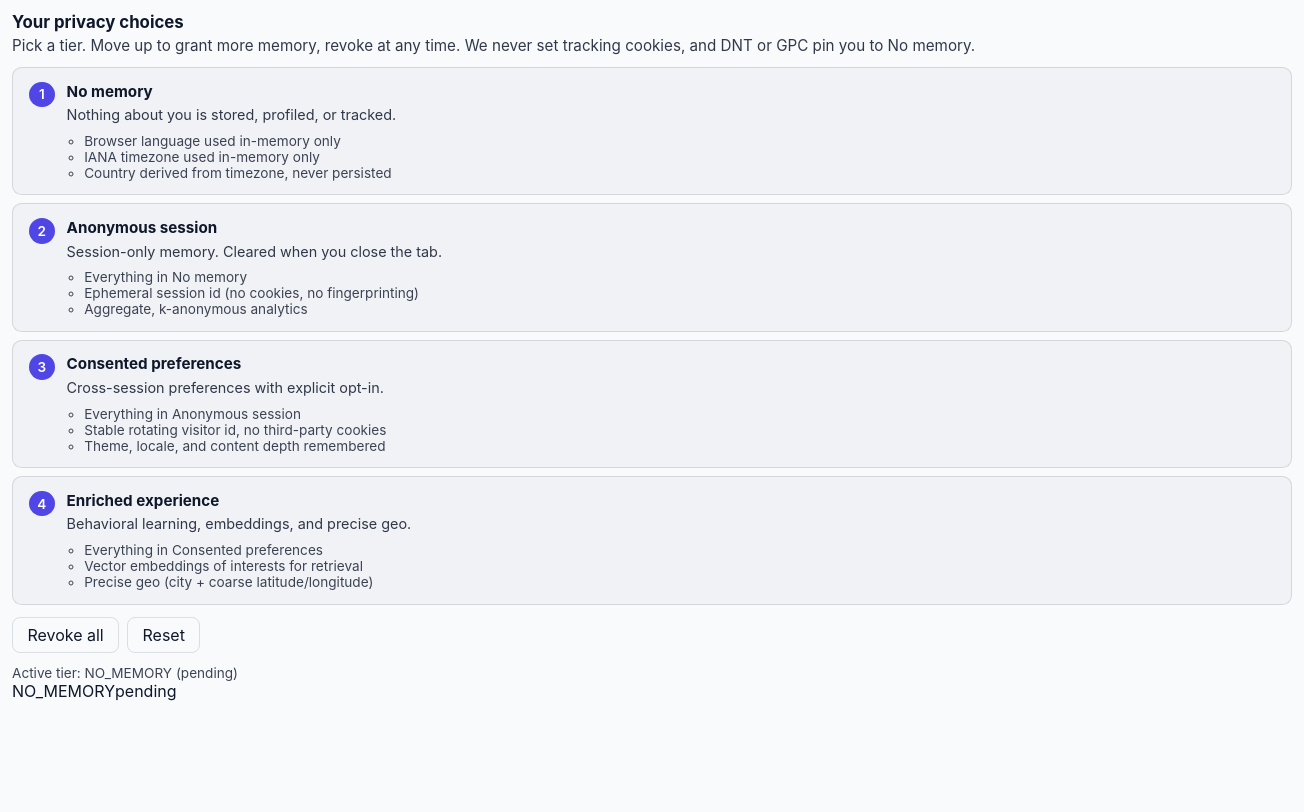
it: ConsentLadder › NO_MEMORY rung revokes consent
Step 1. Click the button that starts with "Enriched experience" → click(652, 540), box [12, 476, 1292, 604]
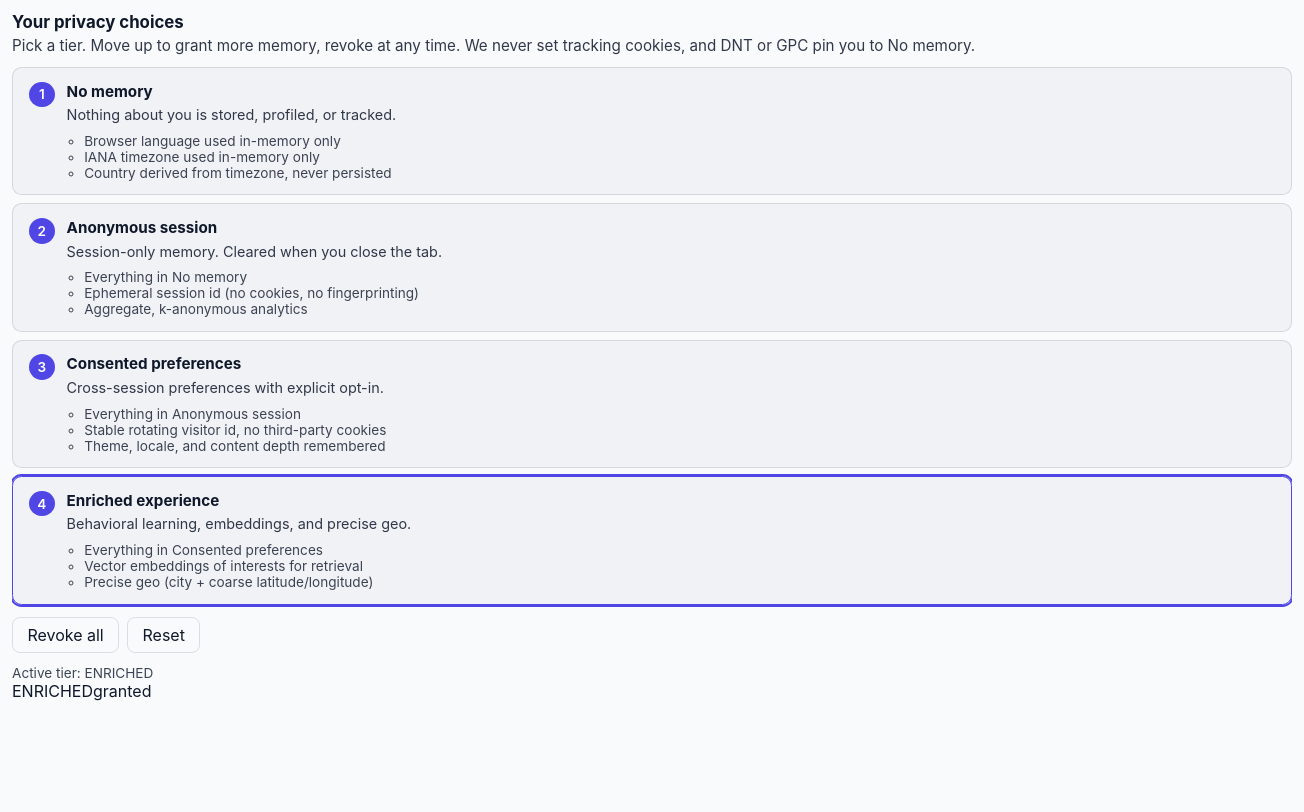
expect the text with test id "tier" reads "ENRICHED": met, box [12, 681, 93, 701]
Step 2. Click the button that starts with "No memory" → click(652, 131), box [12, 67, 1292, 195]
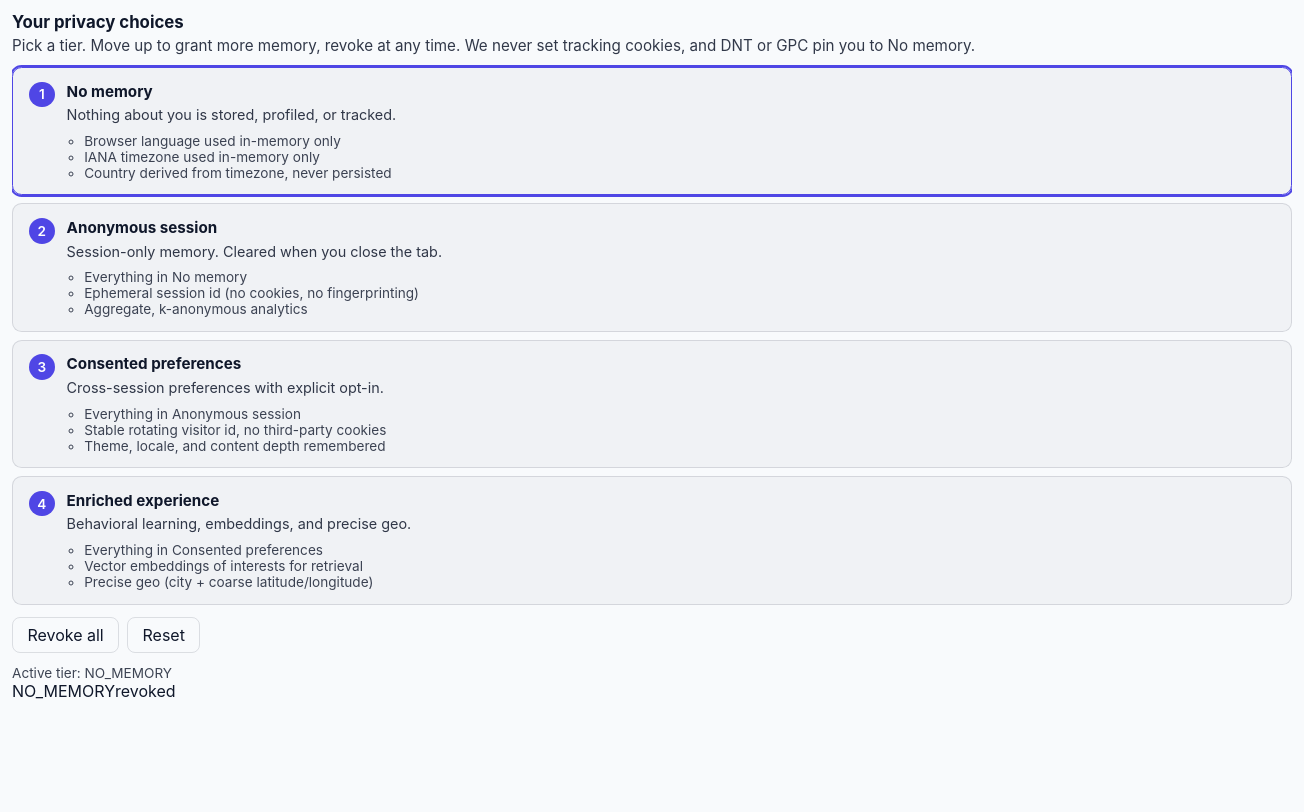
expect the text with test id "state" reads "revoked": met, box [115, 681, 176, 701]
expect the text with test id "tier" reads "NO_MEMORY": met, box [12, 681, 115, 701]
